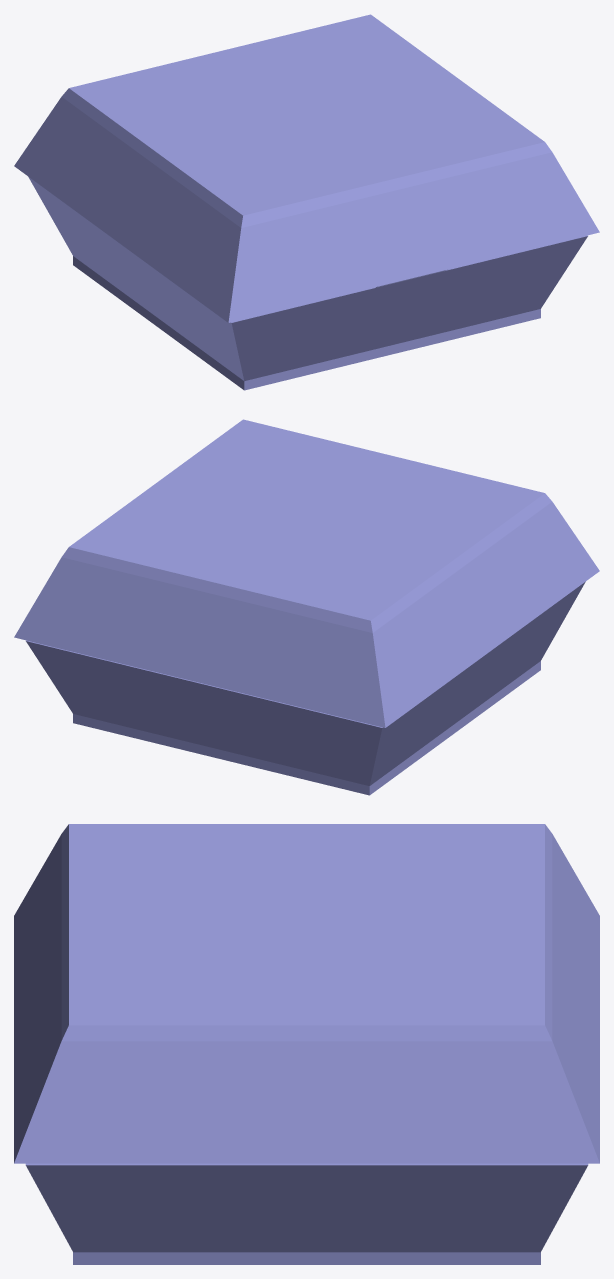
Rendered from Hotdog_holder_uv.fbx.
The picture shows the model from 3 angles, top to bottom: view 1: azimuth 30°, elevation 25°; view 2: azimuth 150°, elevation 25°; view 3: azimuth 270°, elevation 25°; orthographic projection. The views are drawn at different scales.
Parts seen in each view (by area): view 1: Doughnut_packet_closed; view 2: Doughnut_packet_closed; view 3: Doughnut_packet_closed.
Boxes of the visible parts, bbox=[...] form: Doughnut_packet_closed: bbox=[14, 14, 599, 390]; Doughnut_packet_closed: bbox=[14, 419, 599, 795]; Doughnut_packet_closed: bbox=[14, 824, 599, 1264].
Size of the model in its own units: 21.45 by 9.75 by 21.45.
